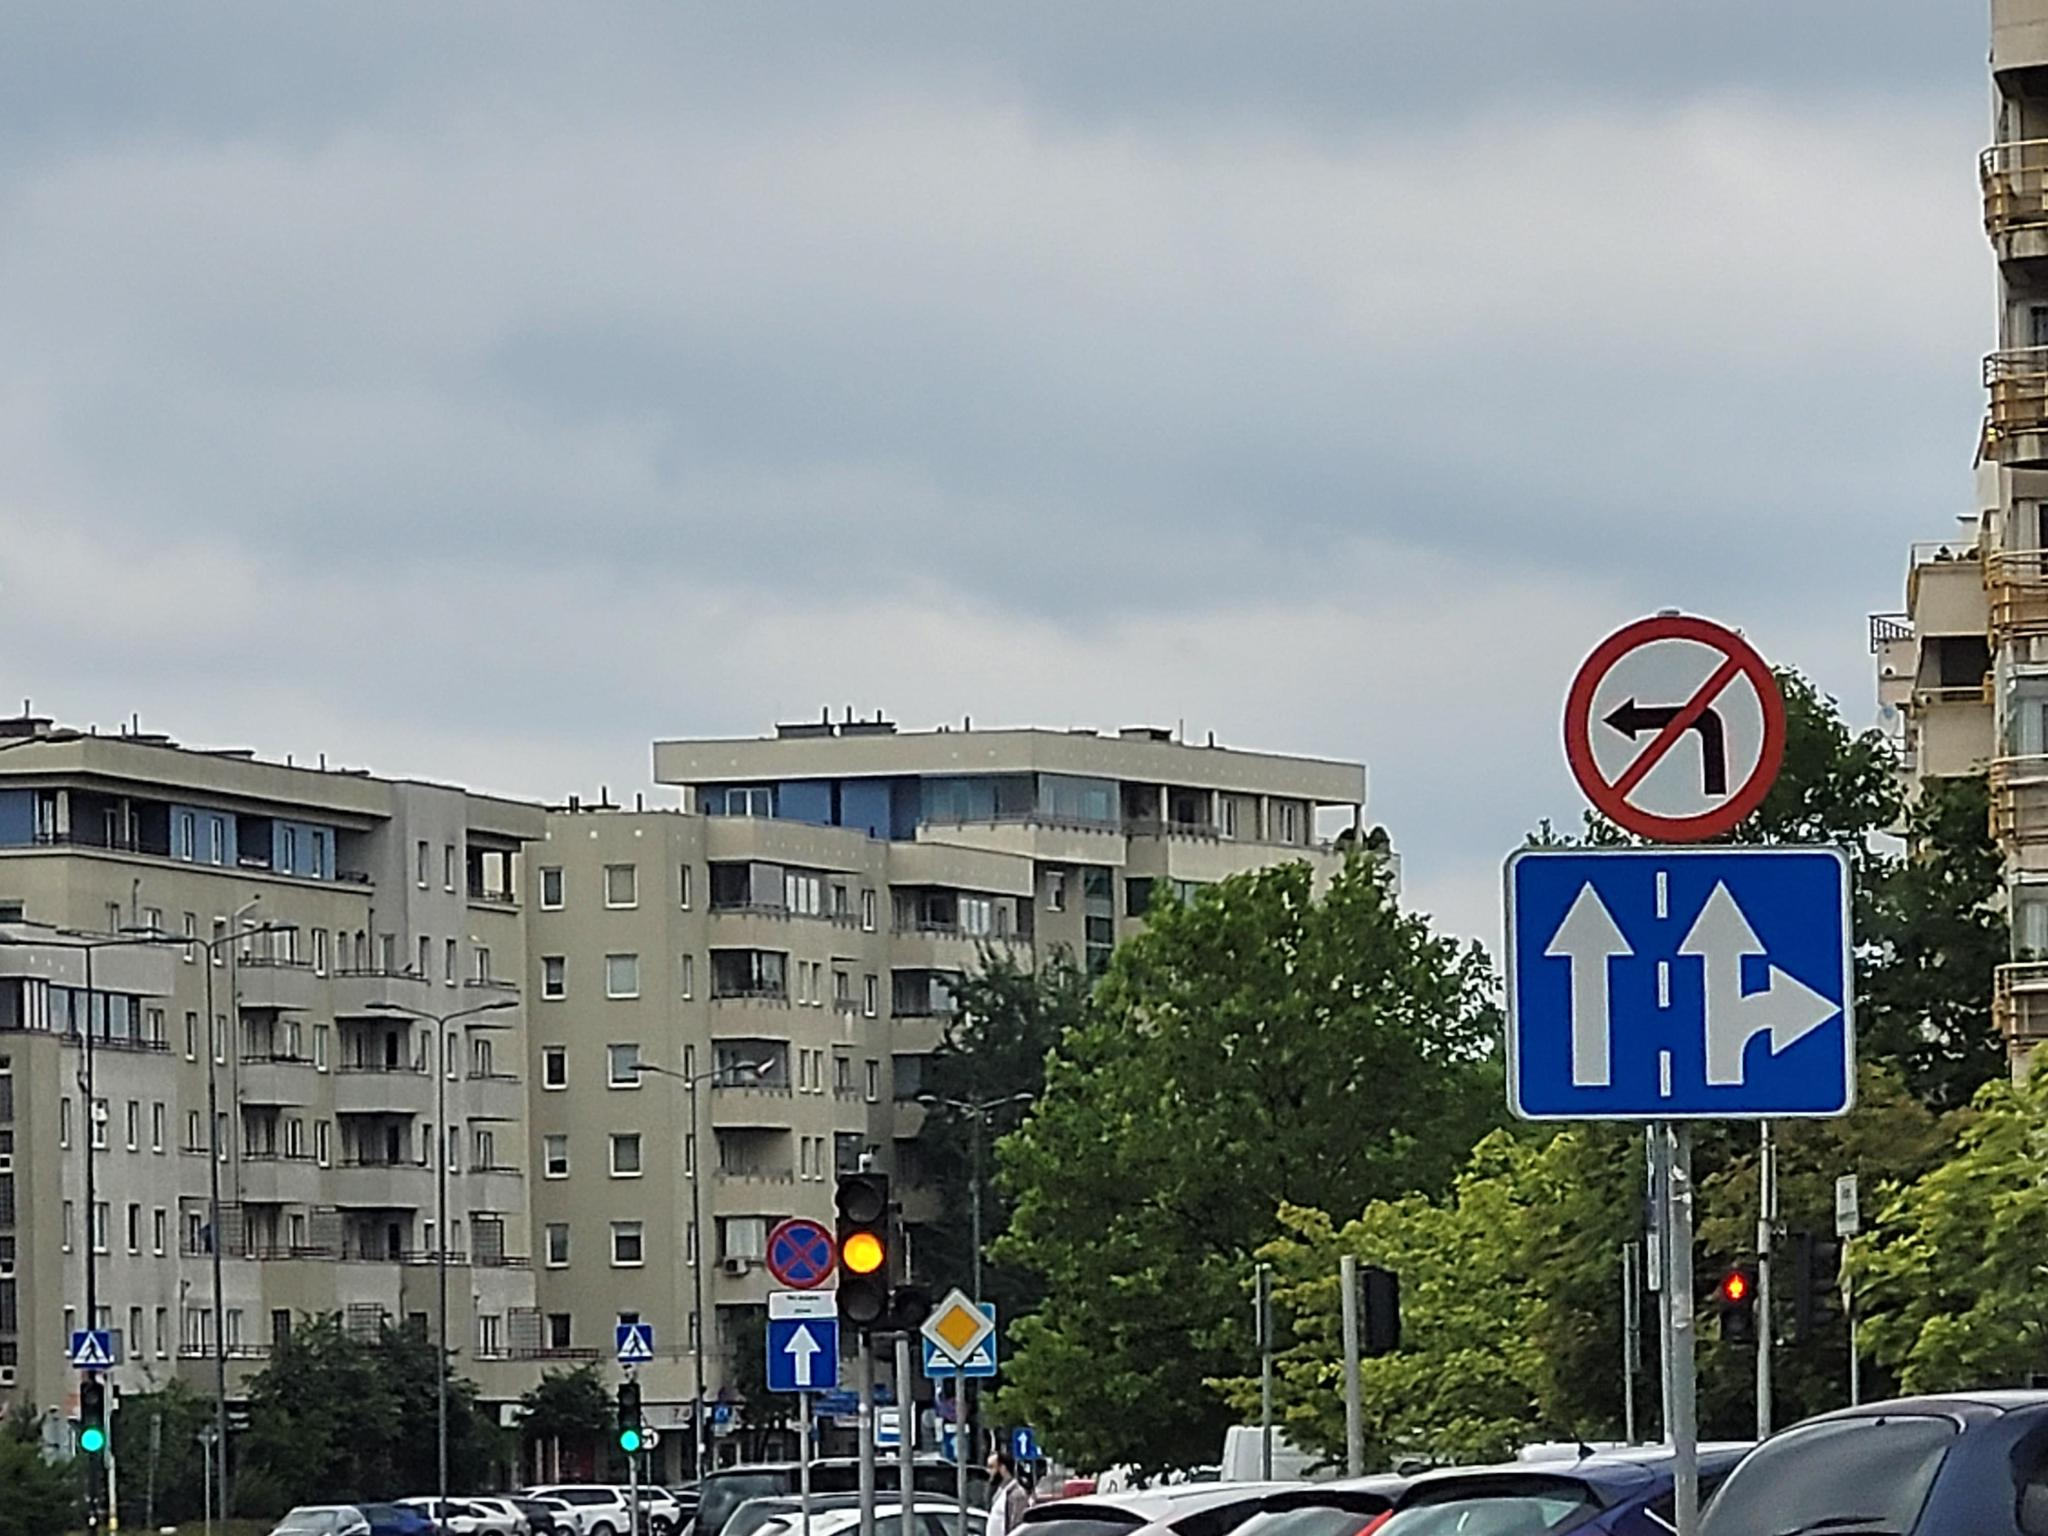information: (919, 1288, 995, 1363), (771, 1321, 837, 1391), (73, 1331, 110, 1367), (619, 1326, 653, 1360)
other: (1511, 854, 1848, 1117)
prohibitory: (1563, 615, 1788, 844), (764, 1217, 839, 1291)
